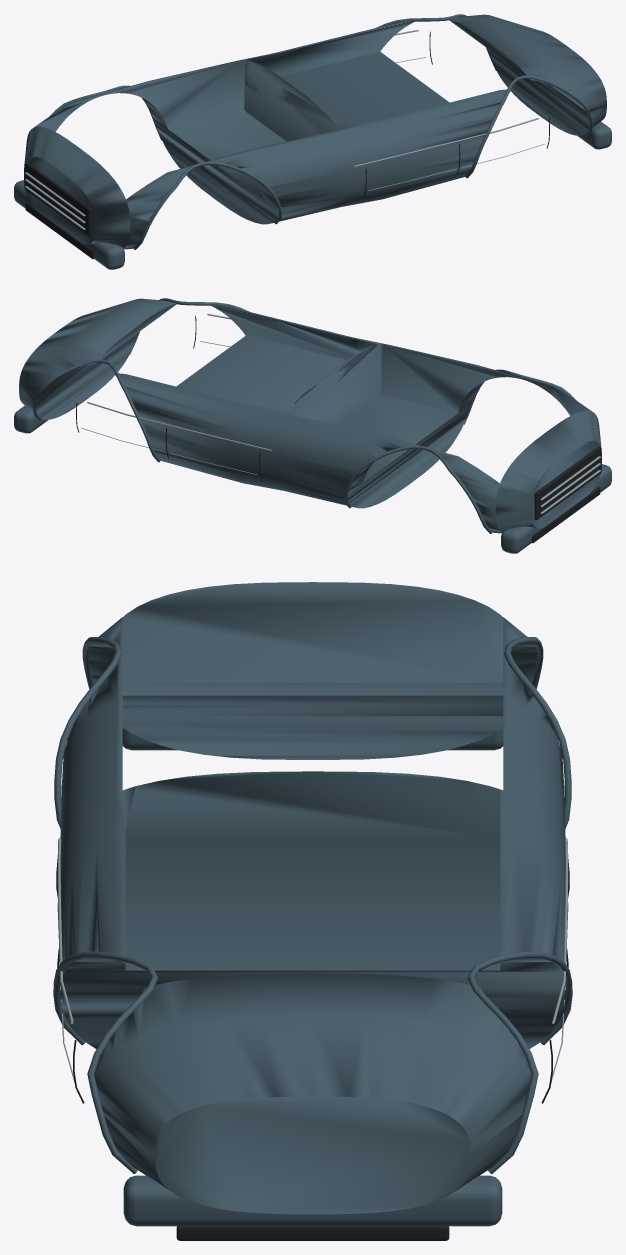
The model's file is sedan_body.glb.
The picture shows the model from 3 angles, top to bottom: view 1: azimuth 30°, elevation 25°; view 2: azimuth 150°, elevation 25°; view 3: azimuth 270°, elevation 25°; orthographic projection. The views are drawn at different scales.
Parts seen in each view (by area): view 1: SedanShell, RecessedGrille, LowerBumper, PressedWheelArch.002, PressedWheelArch.003, LowerIntake, RearBumper, WindowBelt.001; view 2: SedanShell, RecessedGrille, LowerBumper, PressedWheelArch, PressedWheelArch.001, LowerIntake, RearBumper, WindowBelt; view 3: SedanShell, RearBumper, RearDiffuser, PressedWheelArch.001, PressedWheelArch.003, PressedWheelArch.002, PressedWheelArch, LowerBumper.
Part boxes in pixels (x1,y1,x2,y2): SedanShell: (24,14,606,249); RecessedGrille: (24,162,91,235); LowerBumper: (14,180,124,269); PressedWheelArch.002: (133,161,281,249); PressedWheelArch.003: (465,75,592,178); LowerIntake: (25,202,94,259); RearBumper: (577,121,611,149); WindowBelt.001: (354,118,538,167); SedanShell: (19,298,601,533); RecessedGrille: (534,446,601,519); LowerBumper: (501,464,611,553); PressedWheelArch: (344,445,492,533); PressedWheelArch.001: (33,359,160,462); LowerIntake: (531,486,600,543); RearBumper: (14,405,48,433); WindowBelt: (87,402,271,451); SedanShell: (57,582,568,1214); RearBumper: (123,1175,502,1226); RearDiffuser: (176,1224,449,1240); PressedWheelArch.001: (467,951,572,1173); PressedWheelArch.003: (53,951,158,1173); PressedWheelArch.002: (54,636,123,828); PressedWheelArch: (502,636,571,828); LowerBumper: (122,728,503,750).
Bounding box in the file's own units: 5.5 × 1.02 × 2.4.
